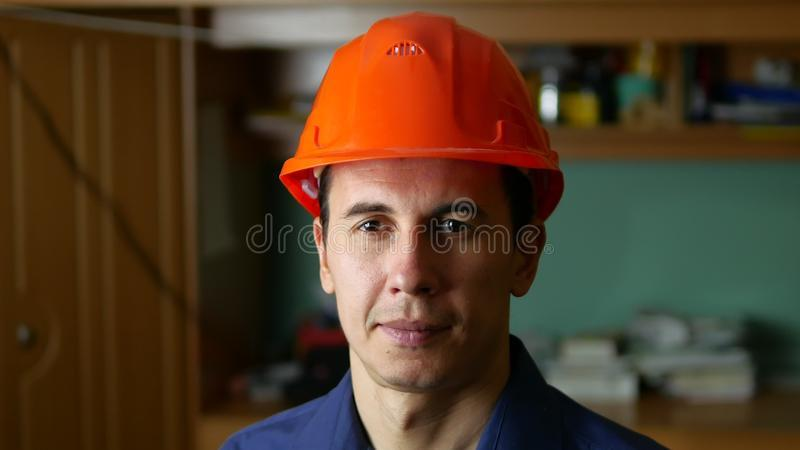helmet: (278, 14, 568, 225)
